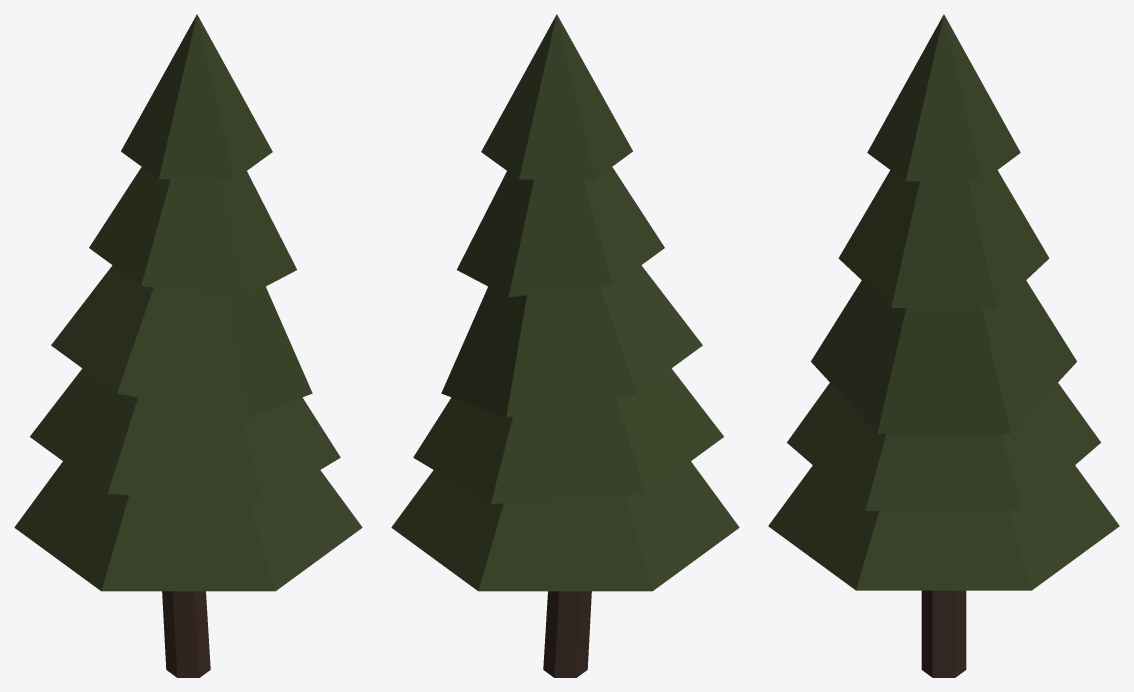
The model's file is Tree Type1 04.glb.
The picture shows the model from 3 angles, left to right: view 1: azimuth 30°, elevation 25°; view 2: azimuth 150°, elevation 25°; view 3: azimuth 270°, elevation 25°; orthographic projection.
Visible parts, largest first — view 1: Tree_Type1_04_mesh; view 2: Tree_Type1_04_mesh; view 3: Tree_Type1_04_mesh.
Part boxes in pixels (x1=…): Tree_Type1_04_mesh: x1=14, y1=14, x2=362, y2=677; Tree_Type1_04_mesh: x1=391, y1=14, x2=739, y2=677; Tree_Type1_04_mesh: x1=768, y1=14, x2=1119, y2=677.
Bounding box in the file's own units: 1.84 × 4.39 × 2.12.
Materials: 1 (1 with a texture image).
